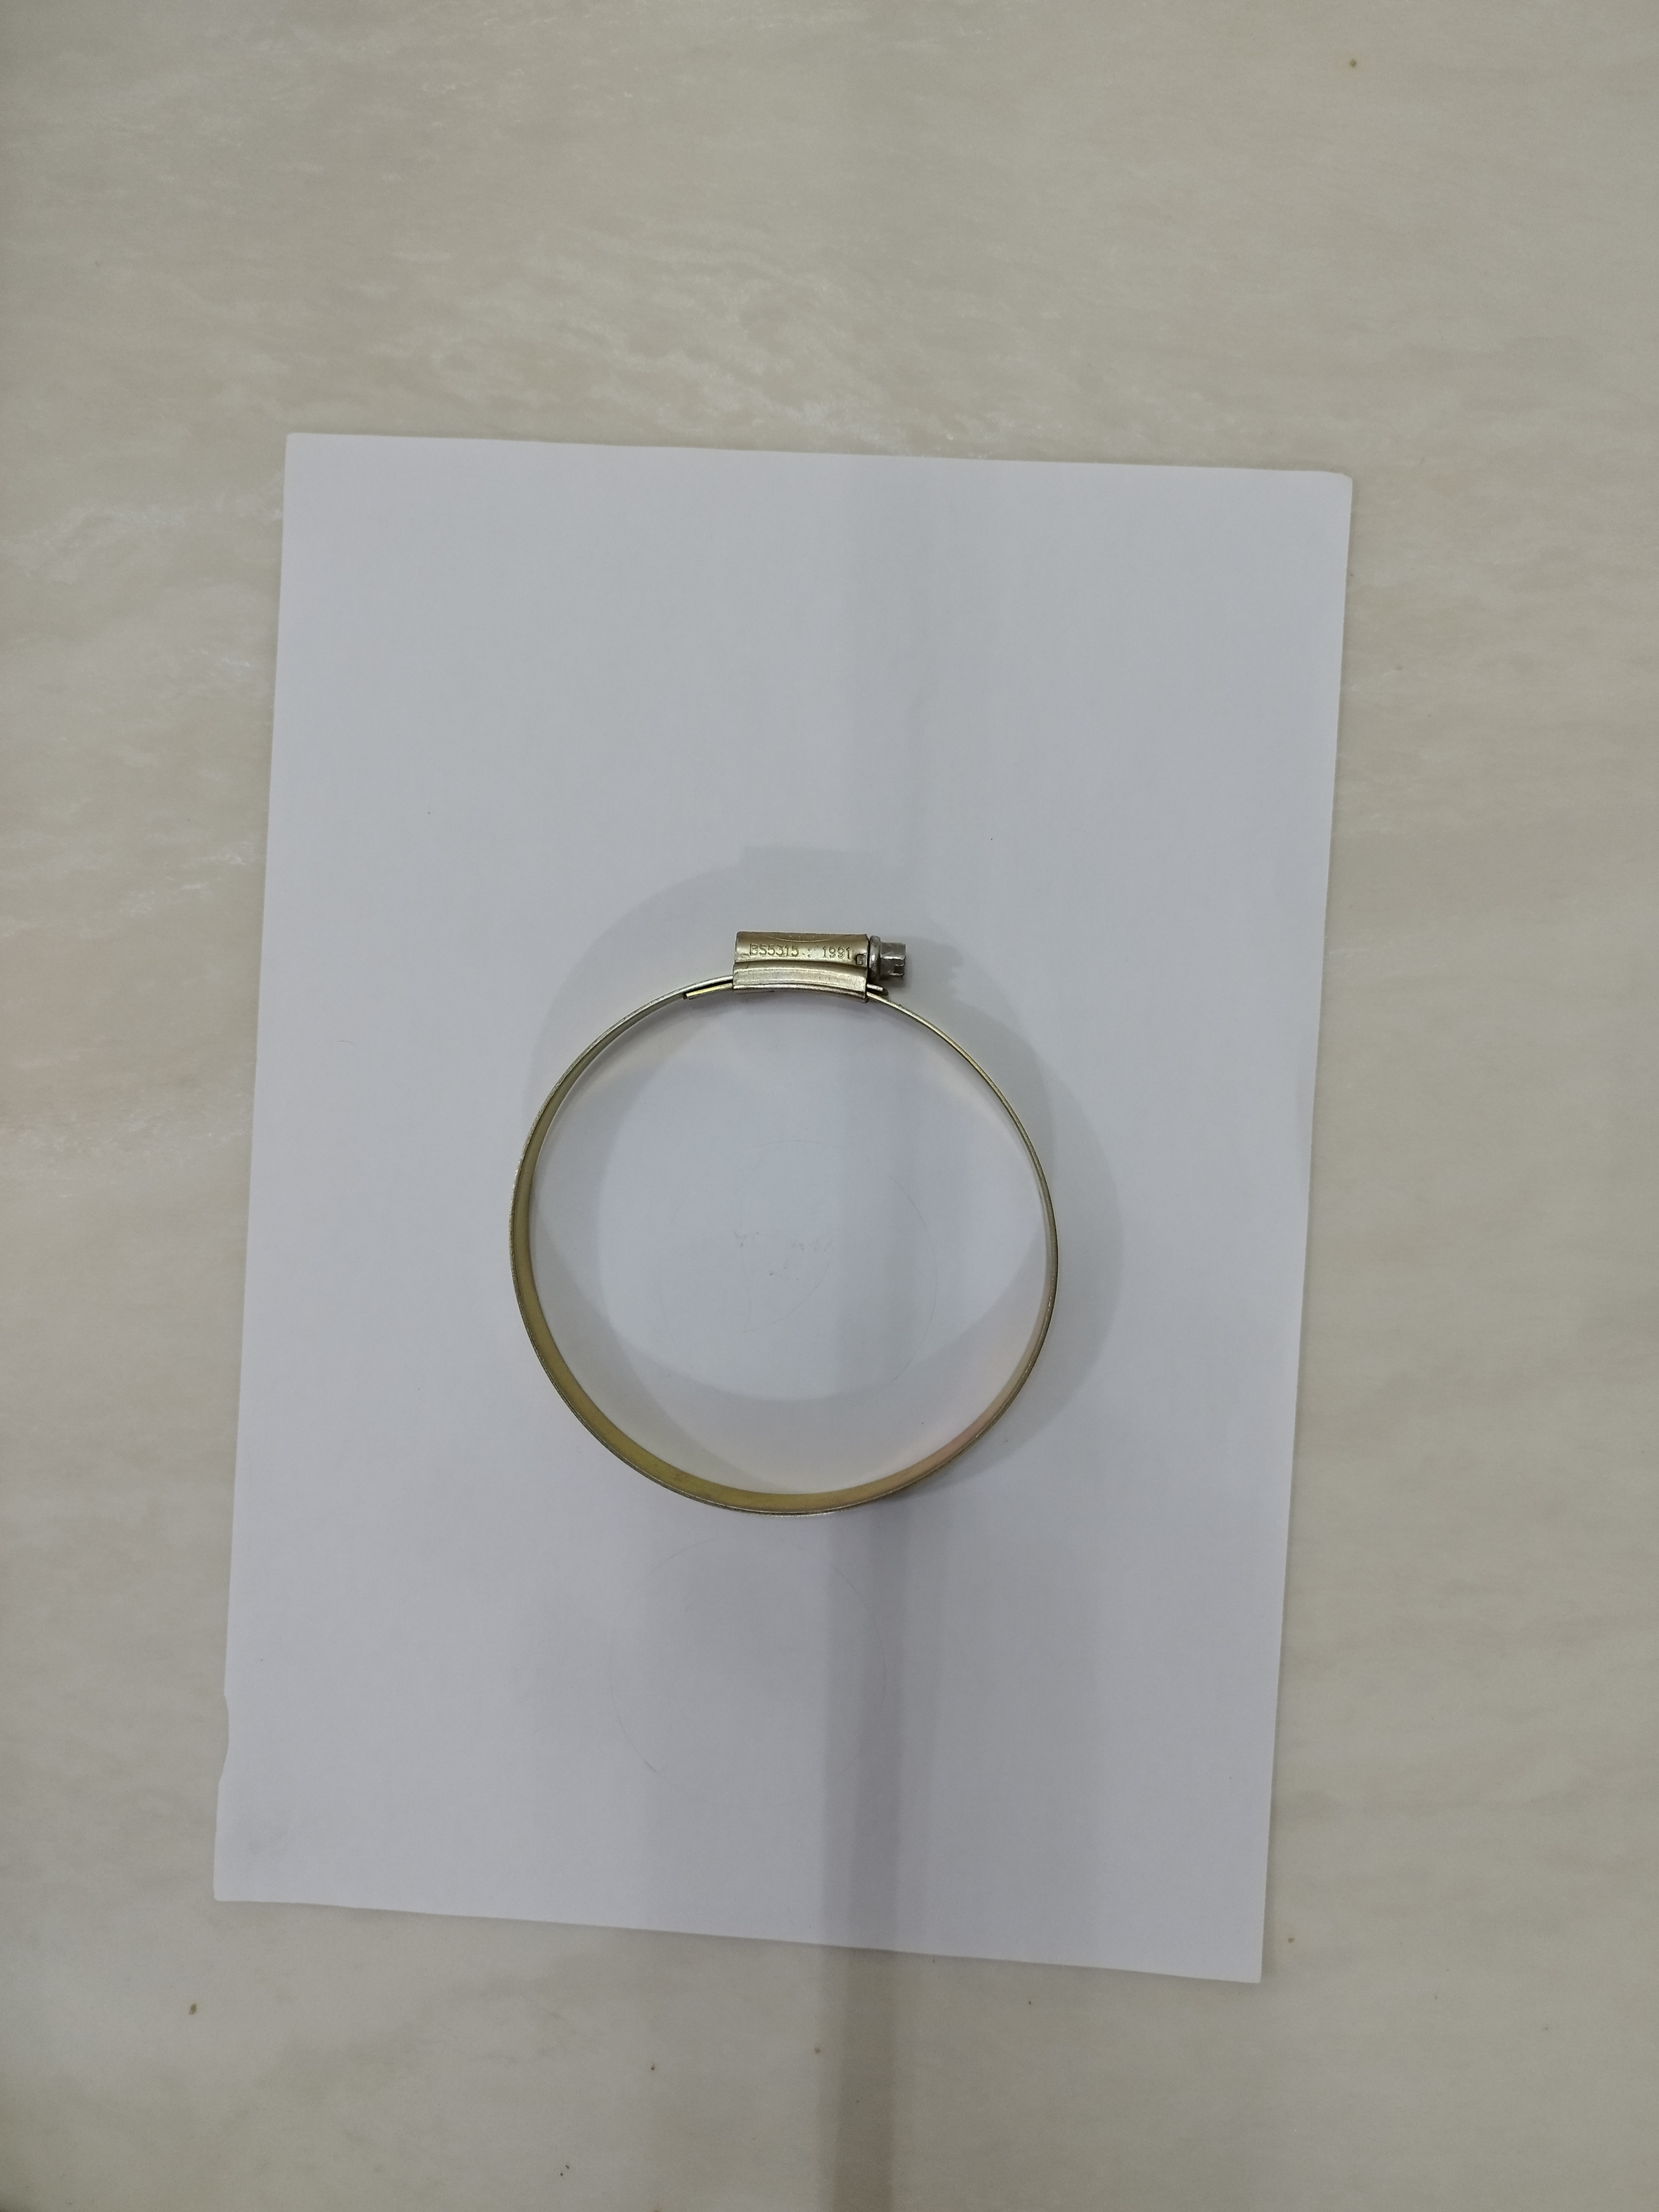ring_clamp: (481, 900, 1077, 1529)
